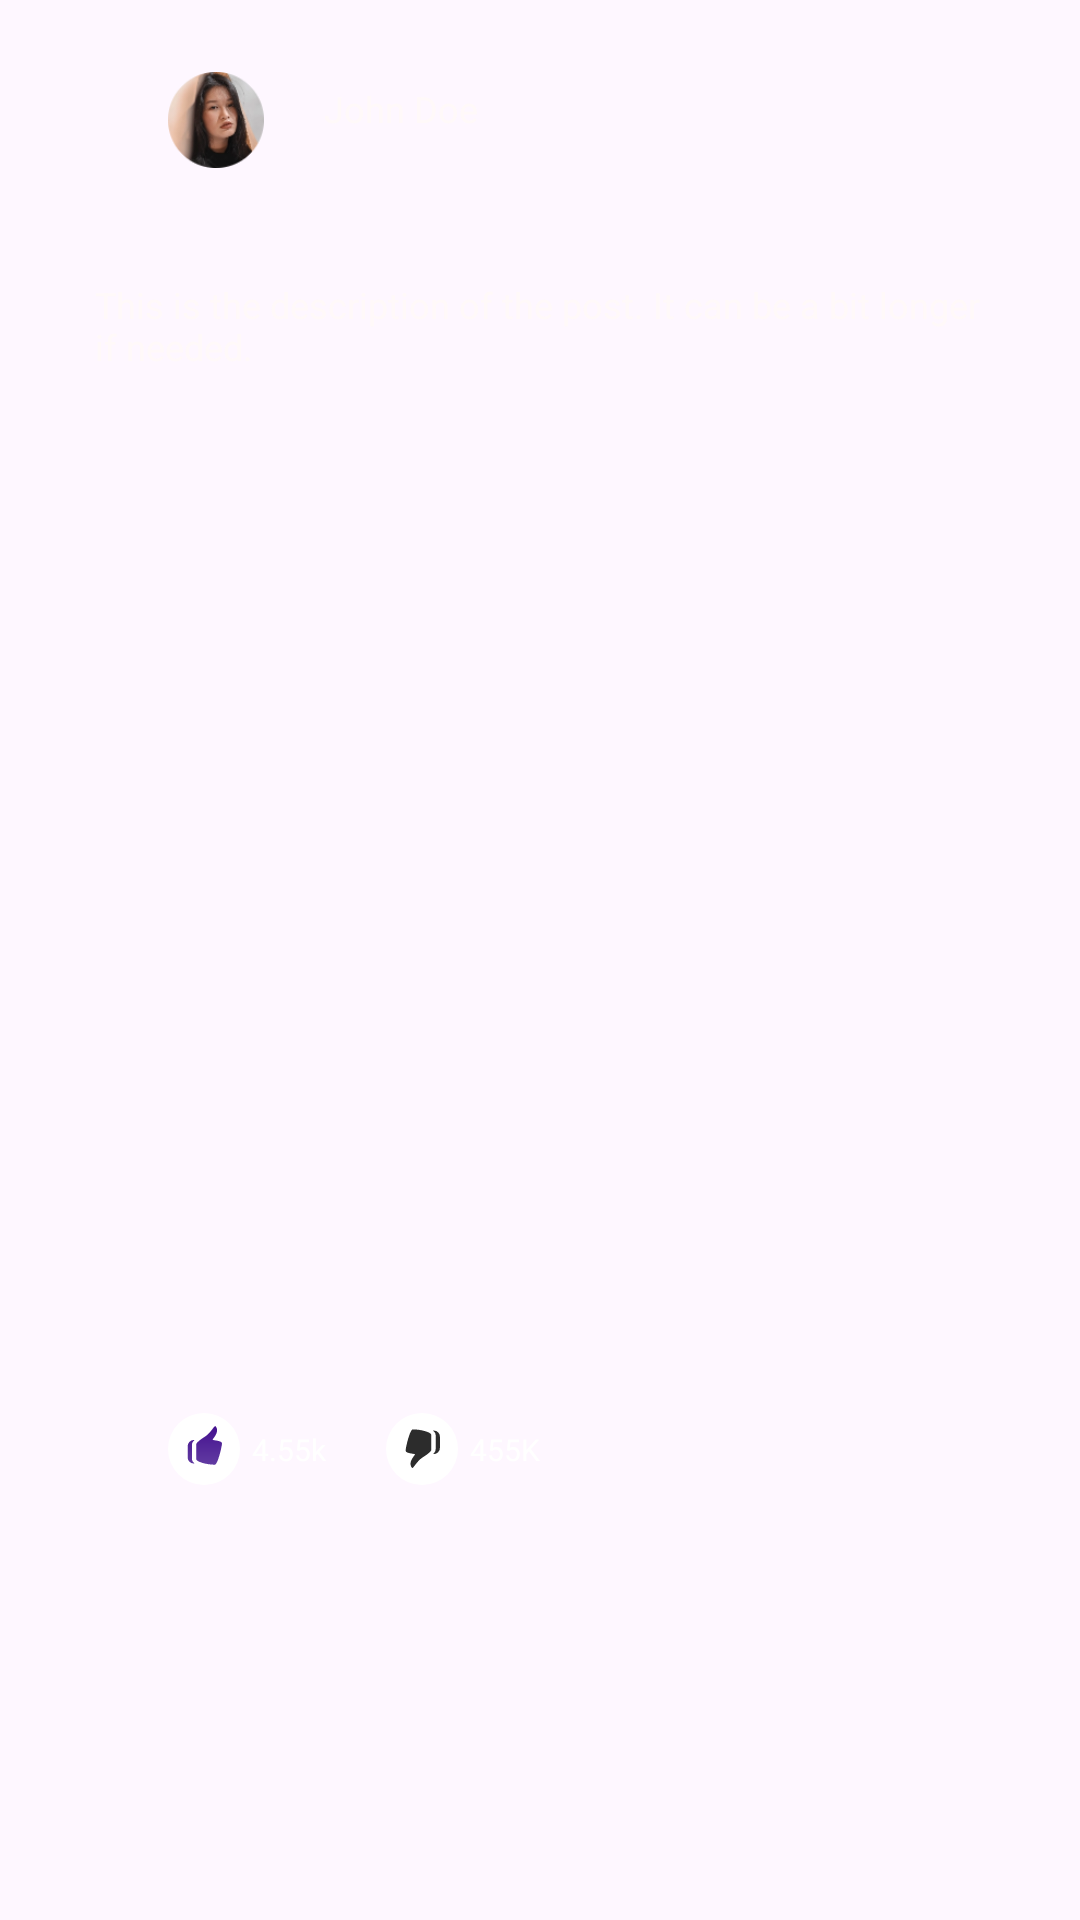

Where icons sit on this 1080×1920 app screen, as (x1=x1, y1=y1, x2=x2, y2=y2):
dislike: (x1=405, y1=1429, x2=440, y2=1468)
like: (x1=187, y1=1426, x2=222, y2=1465)
profileimage: (x1=168, y1=72, x2=264, y2=168)
